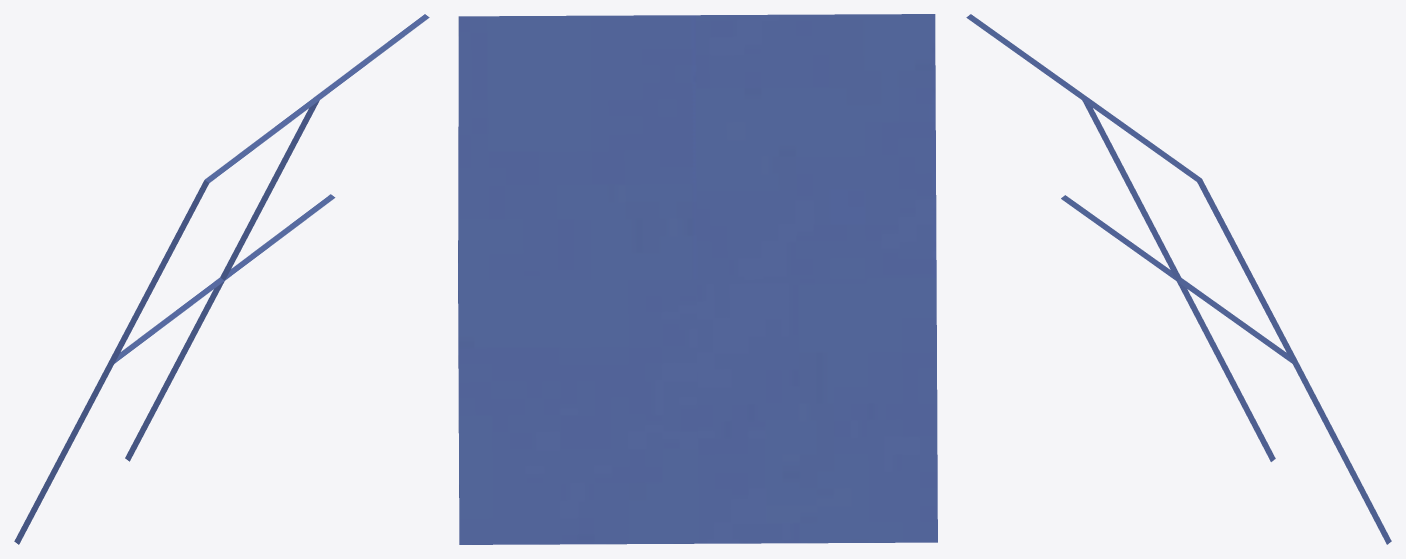
3 views of the same model, side by side, from view 1: azimuth 30°, elevation 25°; view 2: azimuth 150°, elevation 25°; view 3: azimuth 270°, elevation 25° (orthographic). The views are drawn at different scales.
Size of the model in its own units: 19680 by 17737 by 16612.
Materials: 1 (1 with a texture image).
